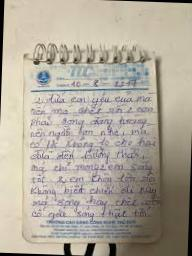text: (31, 190, 163, 217), (29, 178, 158, 205), (29, 119, 156, 145), (29, 166, 158, 190), (29, 131, 156, 155), (29, 156, 154, 180), (29, 110, 151, 134), (30, 202, 152, 226), (27, 143, 145, 167), (28, 101, 154, 122), (34, 88, 156, 109), (44, 215, 138, 228), (70, 77, 146, 91)
